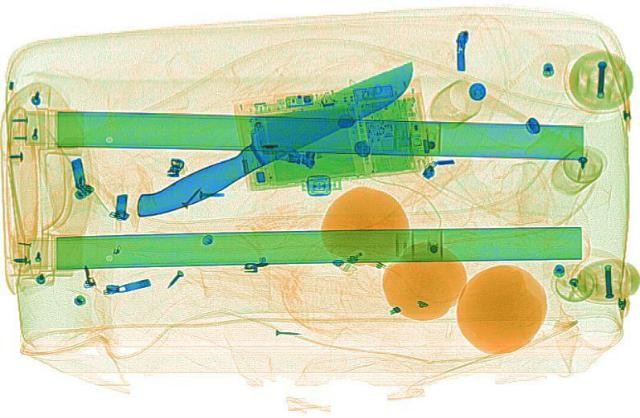Knife: (112, 49, 436, 226)
